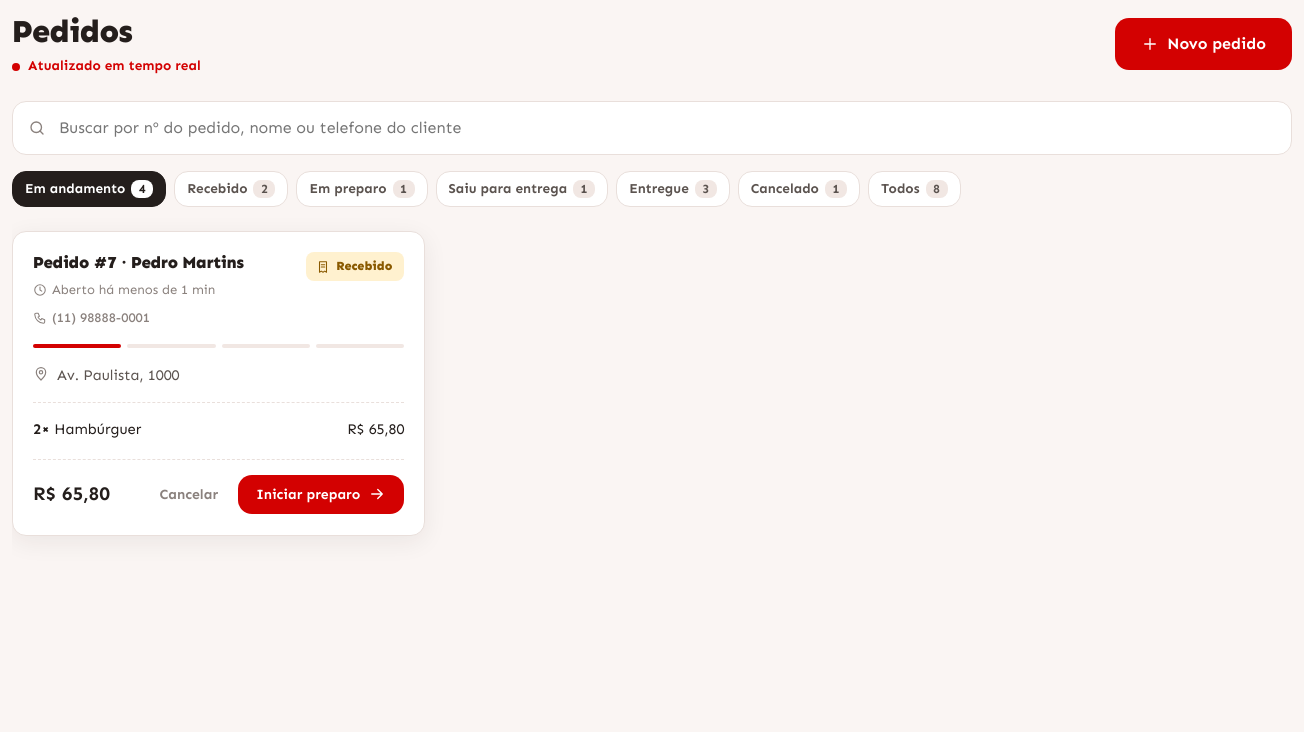
Test: OrdersPage › shows the API message when a status change is rejected
Check: the heading "Pedido #7 · Pedro Martins" is shown, box top-left (33, 252), bottom-right (244, 272)
Click the button "Iniciar preparo": (321, 494) top-left (238, 475), bottom-right (404, 514)
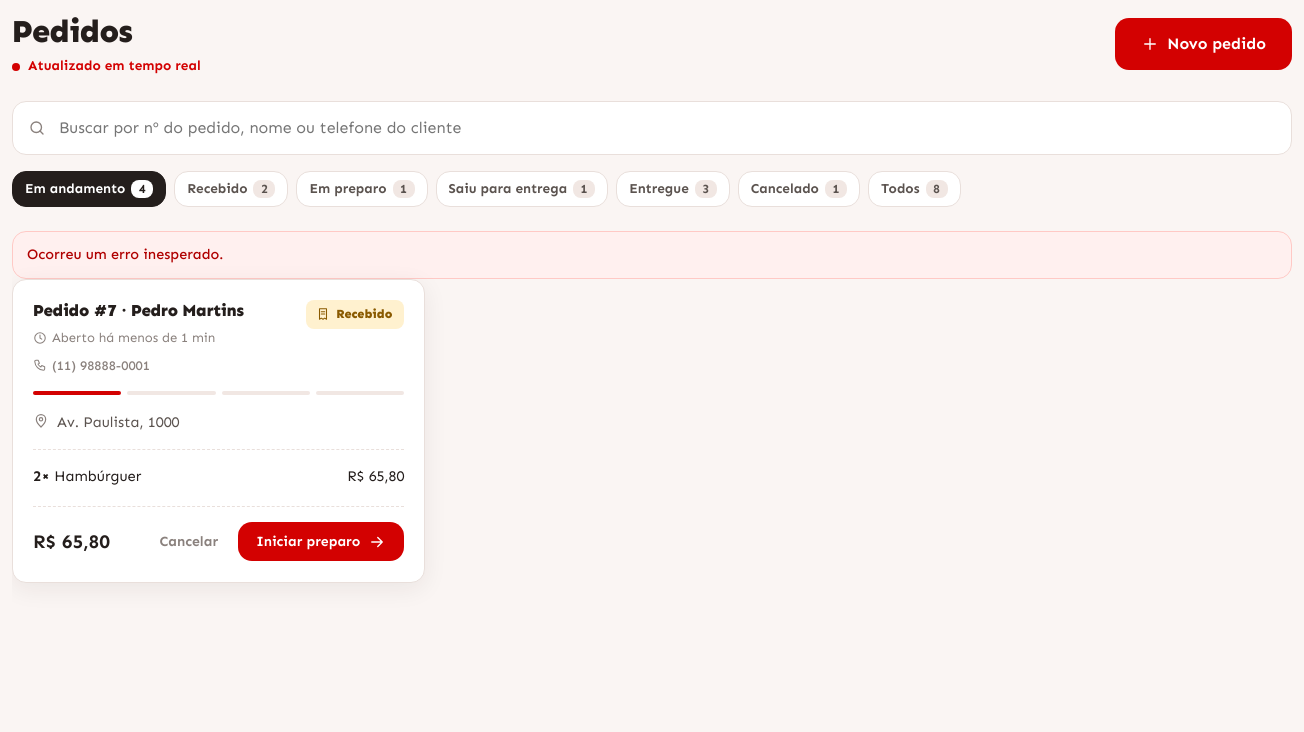
Check: the message "Ocorreu um erro inesperado." is shown, box top-left (12, 231), bottom-right (1292, 279)
